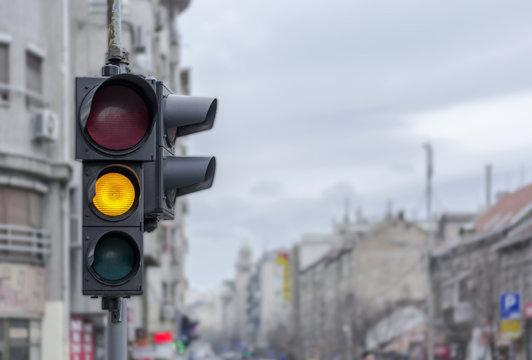yellow_light: (76, 74, 158, 295)
